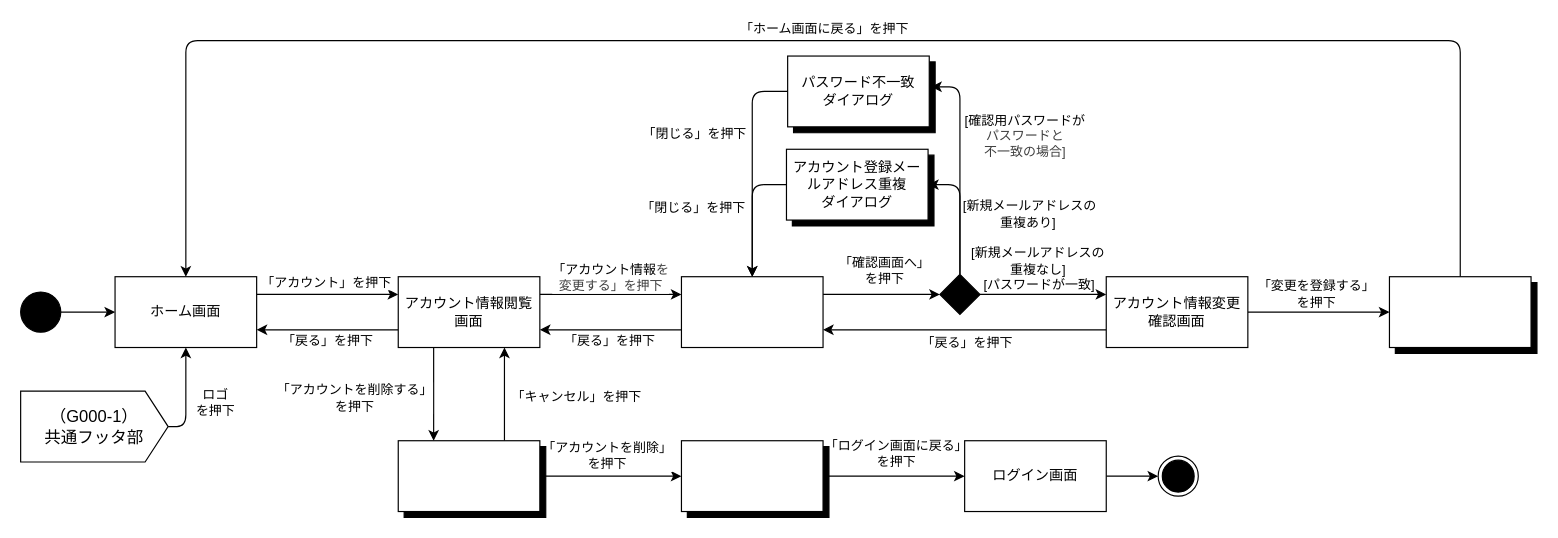
Some shapes in this 1558 by 538 pixel diagram are drawn without their labels. Here are the shapes that lost their labels. From the top down, the centre of each, then its label:
At point (751, 312): "アカウント情報変更画面".
At point (1459, 312): "アカウント情報変更確定ダイアログ".
At point (468, 476): "アカウント情報削除ダイアログ".
At point (751, 476): "アカウント削除確定ダイアログ".
